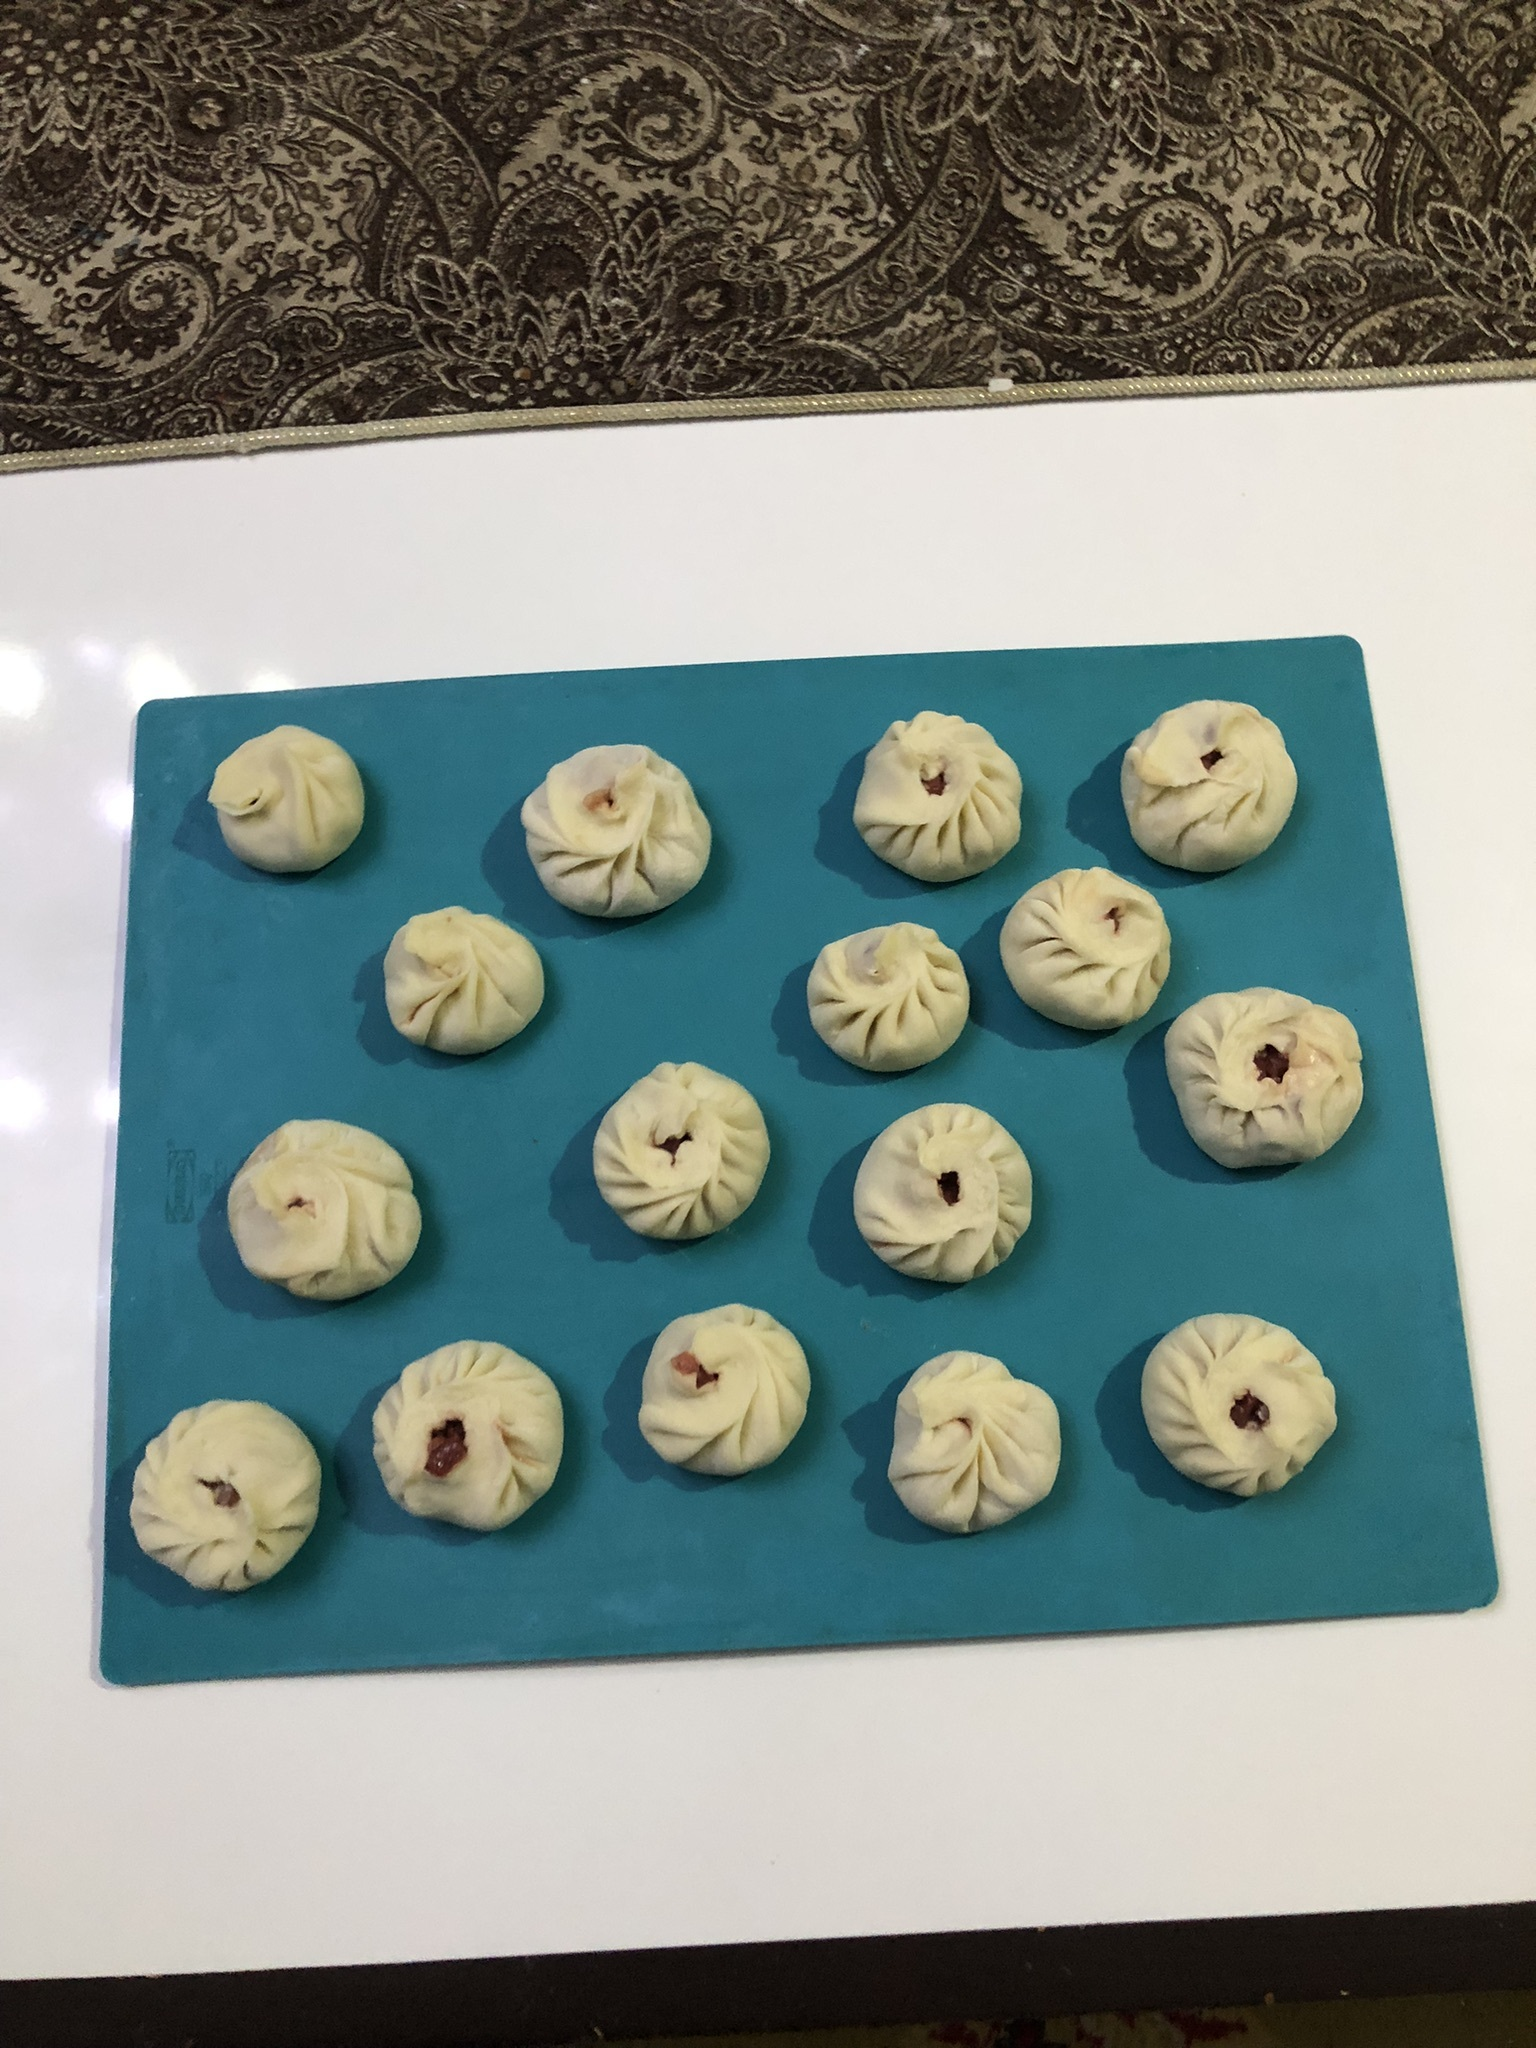buuz: (1121, 1288, 1352, 1516), (871, 1335, 1091, 1558), (116, 1385, 332, 1606), (1158, 976, 1376, 1190), (360, 1330, 578, 1545), (215, 1106, 437, 1309), (841, 1093, 1058, 1293), (510, 735, 724, 934), (584, 1055, 783, 1255), (839, 700, 1042, 893), (1112, 689, 1312, 884), (620, 1293, 816, 1490), (984, 855, 1187, 1042), (374, 900, 568, 1071), (791, 910, 978, 1080), (203, 714, 390, 884)
